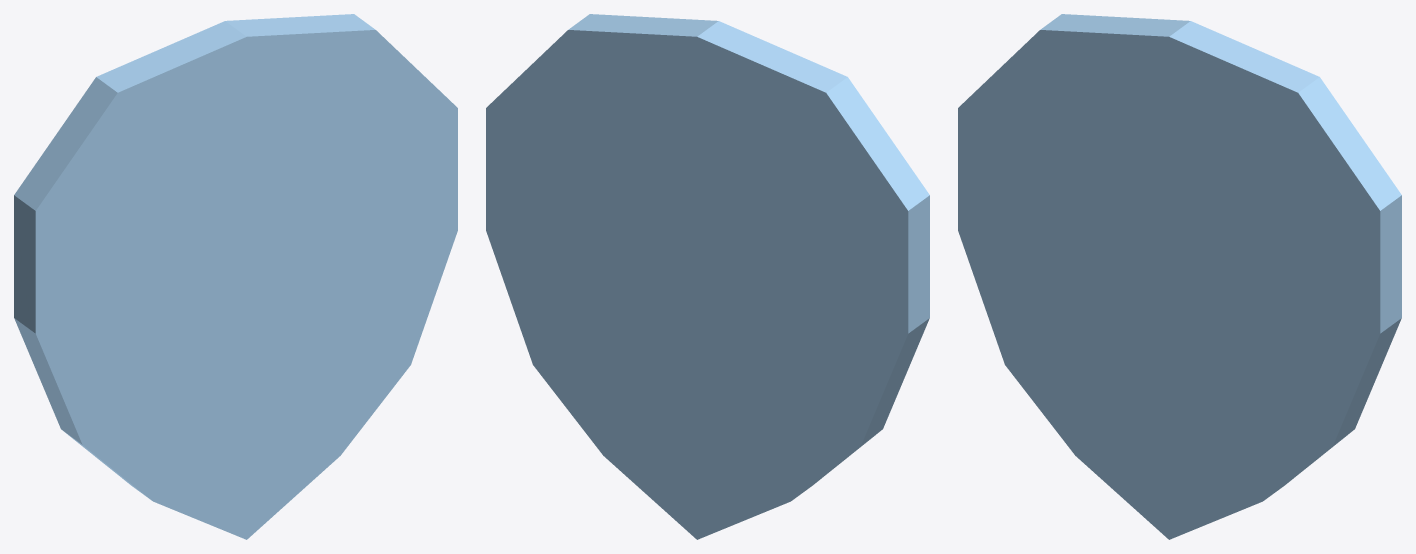
File: badge_rocket_ship.glb
3 renders of one model, left to right at view 1: azimuth 30°, elevation 25°; view 2: azimuth 150°, elevation 25°; view 3: azimuth 330°, elevation 25°, orthographic.
Parts seen in each view (by area): view 1: badge; view 2: badge; view 3: badge.
Part boxes in pixels (x1=…): badge: x1=14, y1=14, x2=457, y2=539; badge: x1=486, y1=14, x2=929, y2=539; badge: x1=958, y1=14, x2=1401, y2=539.
Size of the model in its own units: 1.8 by 2.05 by 0.16.
